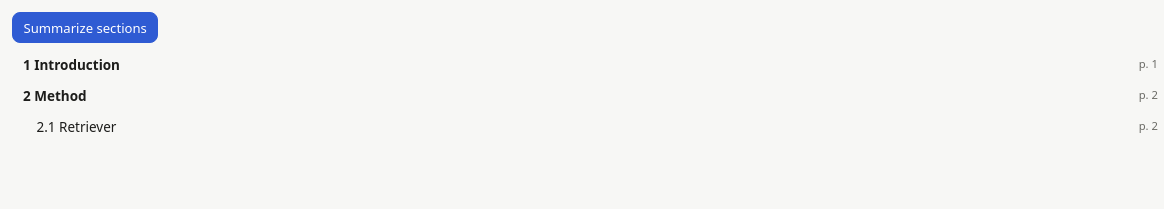
Test: SectionsPanel › shows why the summaries failed
This screenshot has width=1164, height=209.
Step 1. Click the button "Summarize sections" → (85, 28), box top-left (12, 12), bottom-right (158, 43)
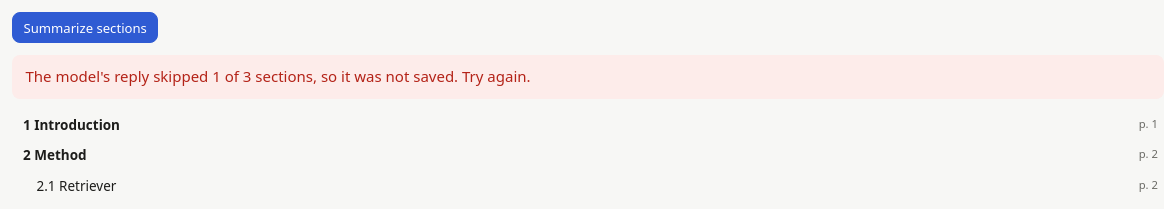
expect the text "1 Introduction" is shown: met, box top-left (23, 115), bottom-right (120, 136)
expect the text "skipped 1 of 3 sections" is shown: met, box top-left (26, 66), bottom-right (531, 86)
